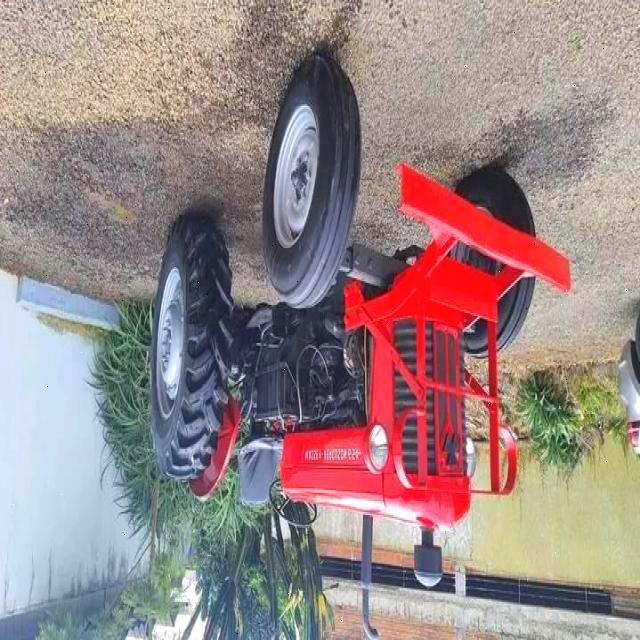Tratores - v5 YOLO V8L 2024-11-13: (153, 56, 573, 640)
